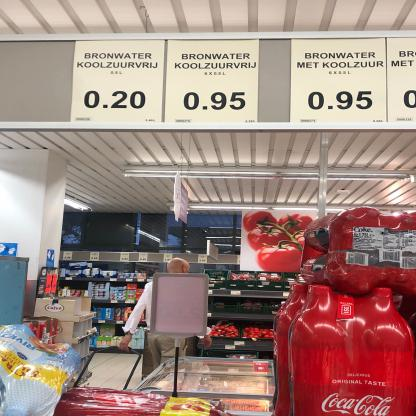prtg: (290, 38, 387, 124), (165, 40, 260, 124), (72, 41, 166, 124), (387, 38, 416, 124)
